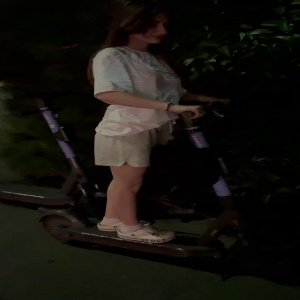human on a scooter: (37, 1, 275, 272)
